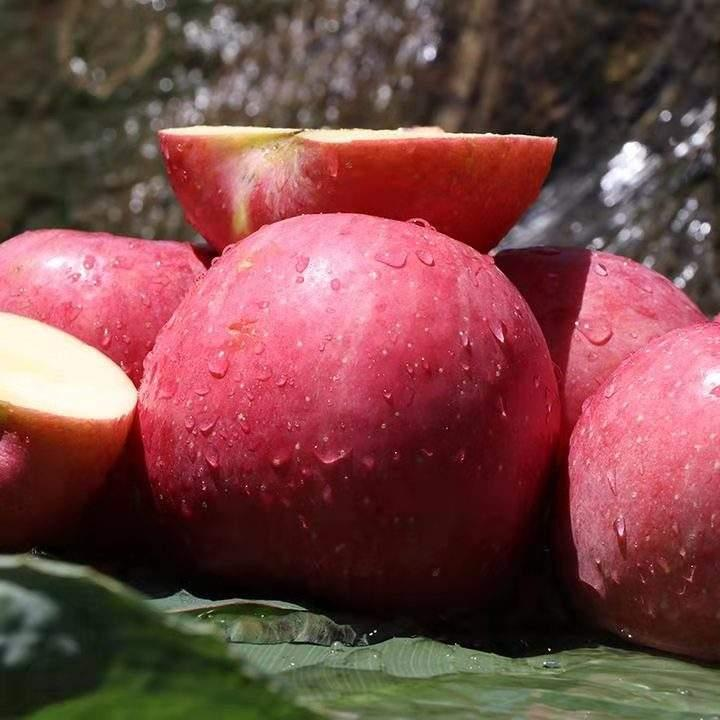apple: (134, 215, 556, 616), (147, 113, 561, 252), (559, 315, 720, 662), (1, 229, 211, 377)
